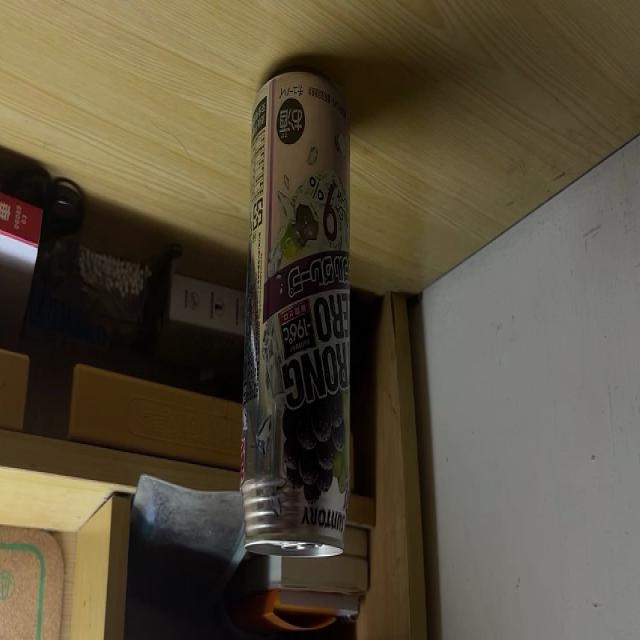Liquor: (240, 69, 351, 561)
